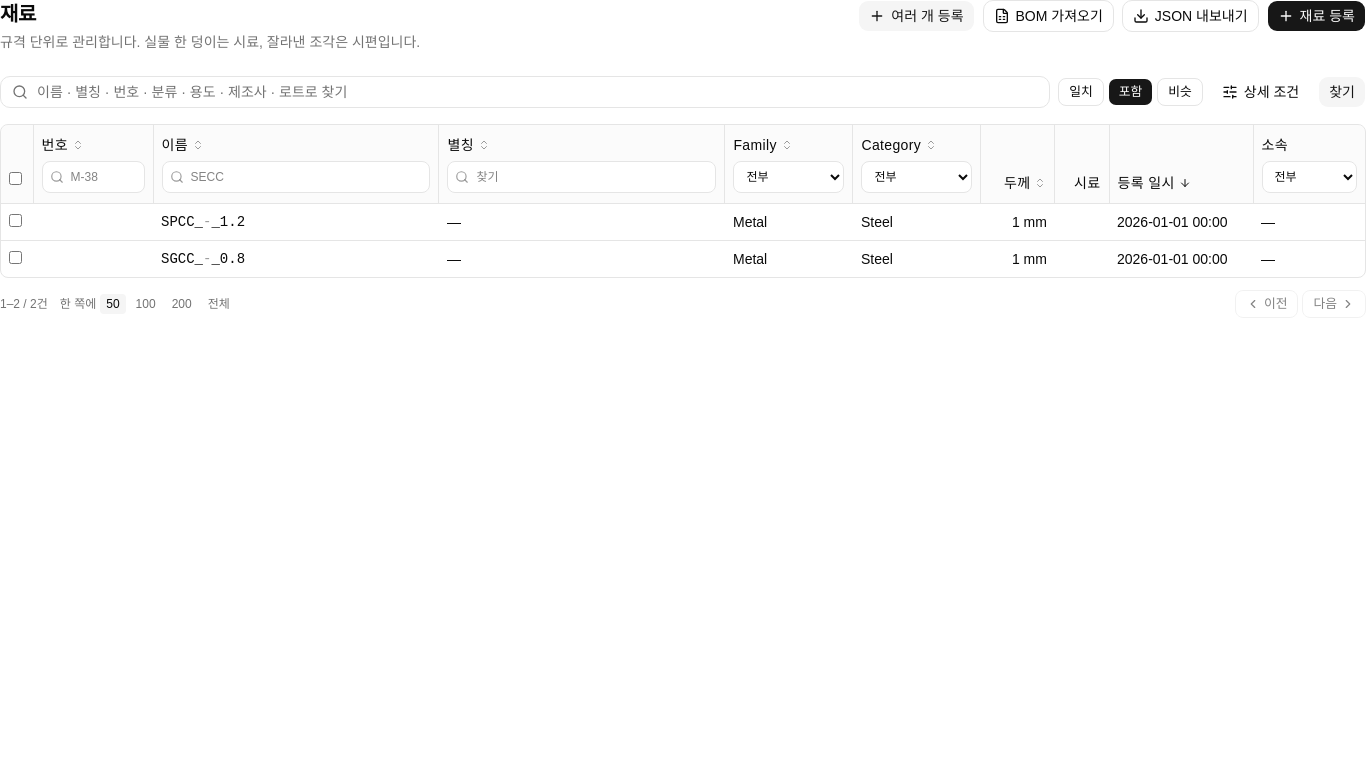
Test case: 일괄 삭제 › 딸려 간 것을 지운 뒤에 말한다
Expected: the link "SPCC_-_1.2" is shown, [161,214,245,230]
Click the checkbox named "전부 선택" at (16, 178), box [9,172,22,185]
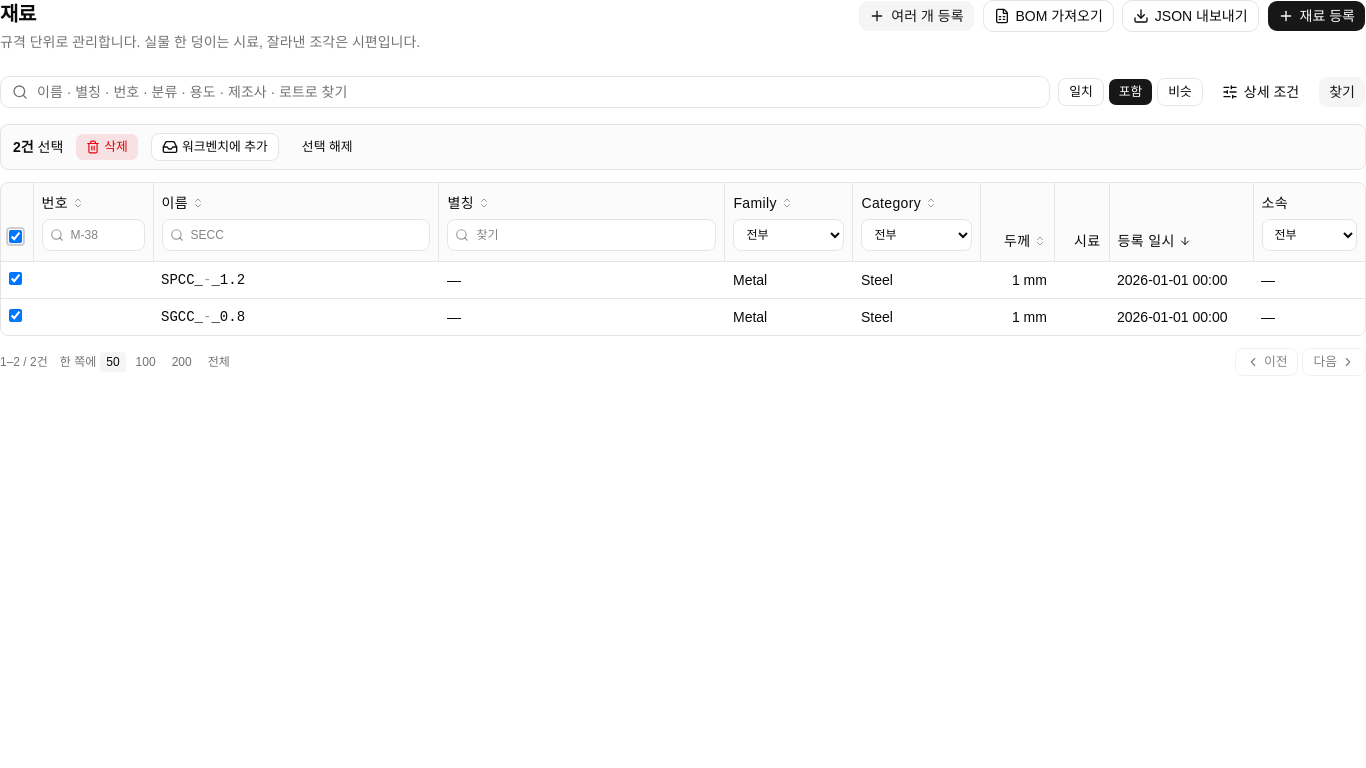
Click the button "삭제" at (107, 147), box [75,133,139,161]
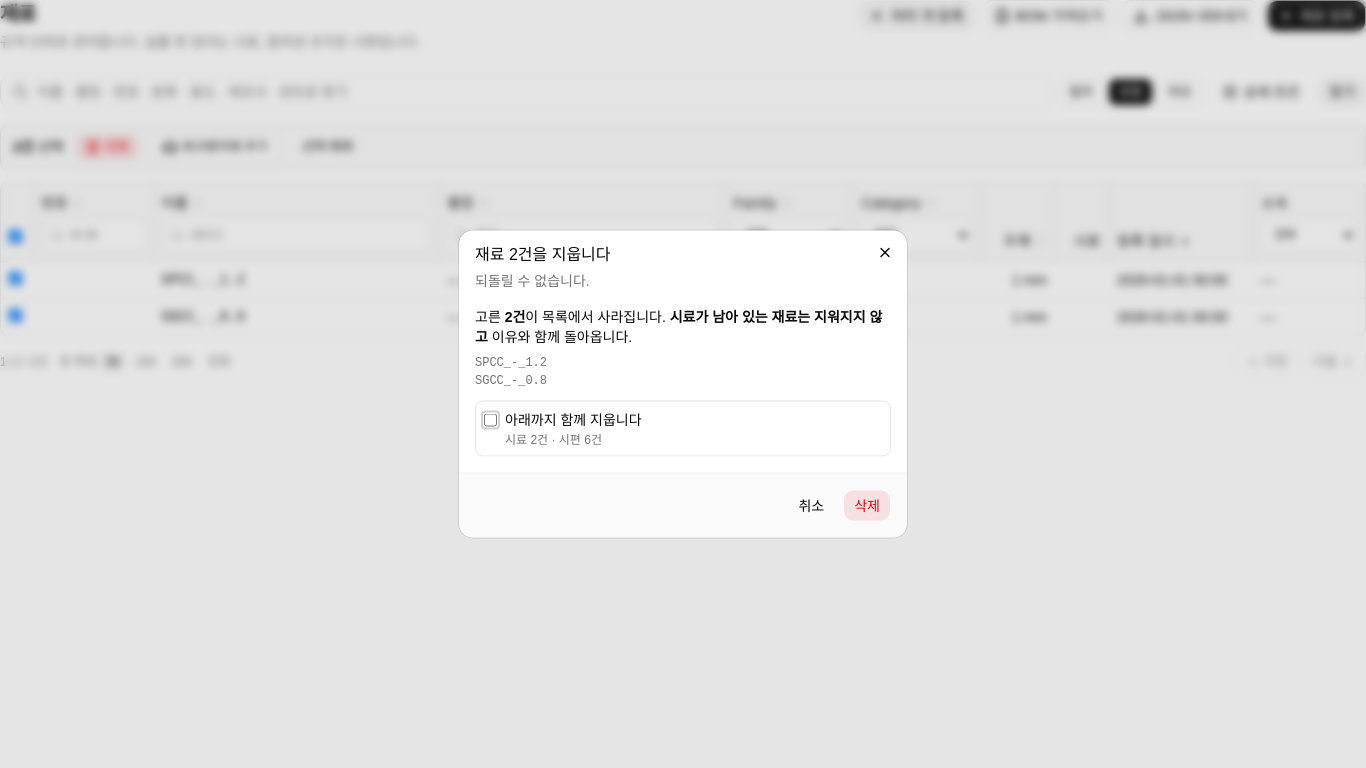
Expected: the text "시료 2건 · 시편 6건" is shown, [505,432,602,446]
Click the checkbox labelled "아래까지 함께 지웁니다 시료 2건 · 시편 6건" at (490, 420), box [484,414,497,426]
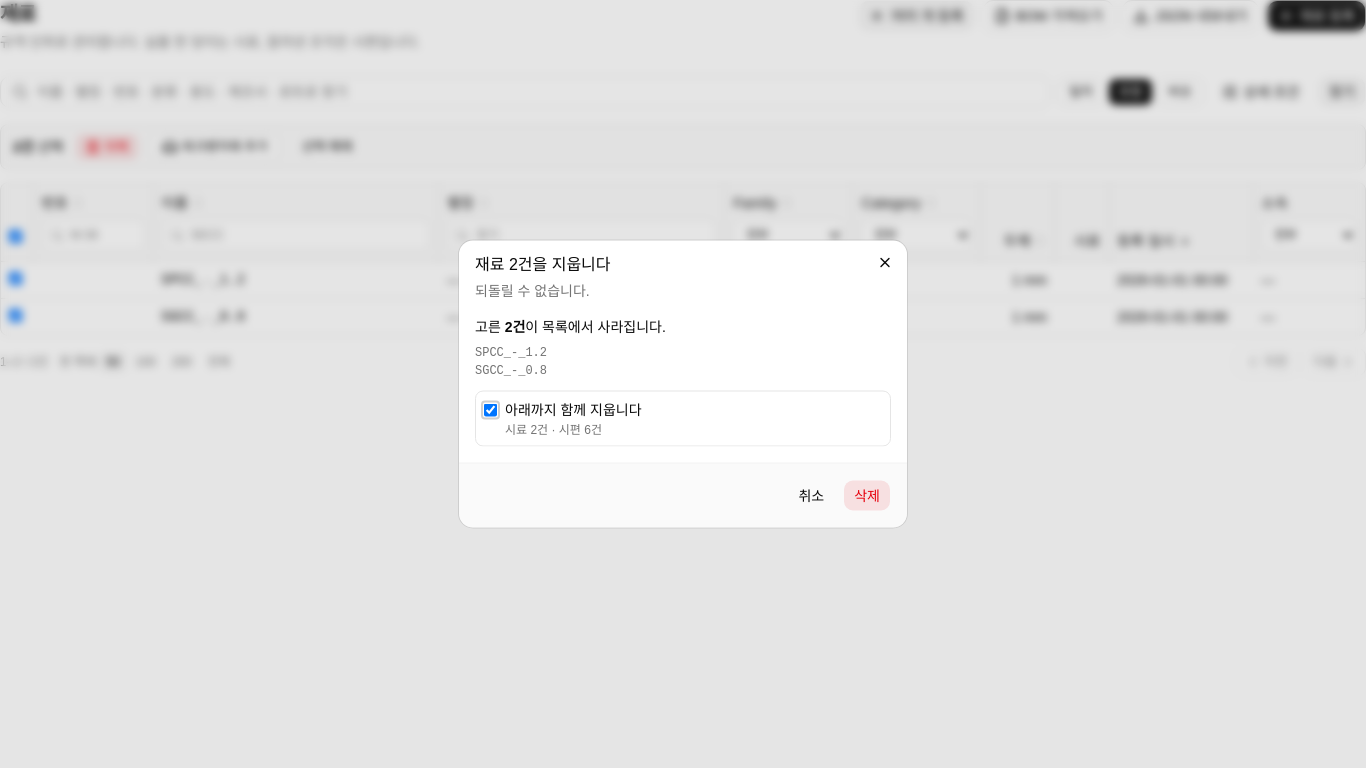
Click the button "삭제" at (867, 496), box [843,480,891,512]
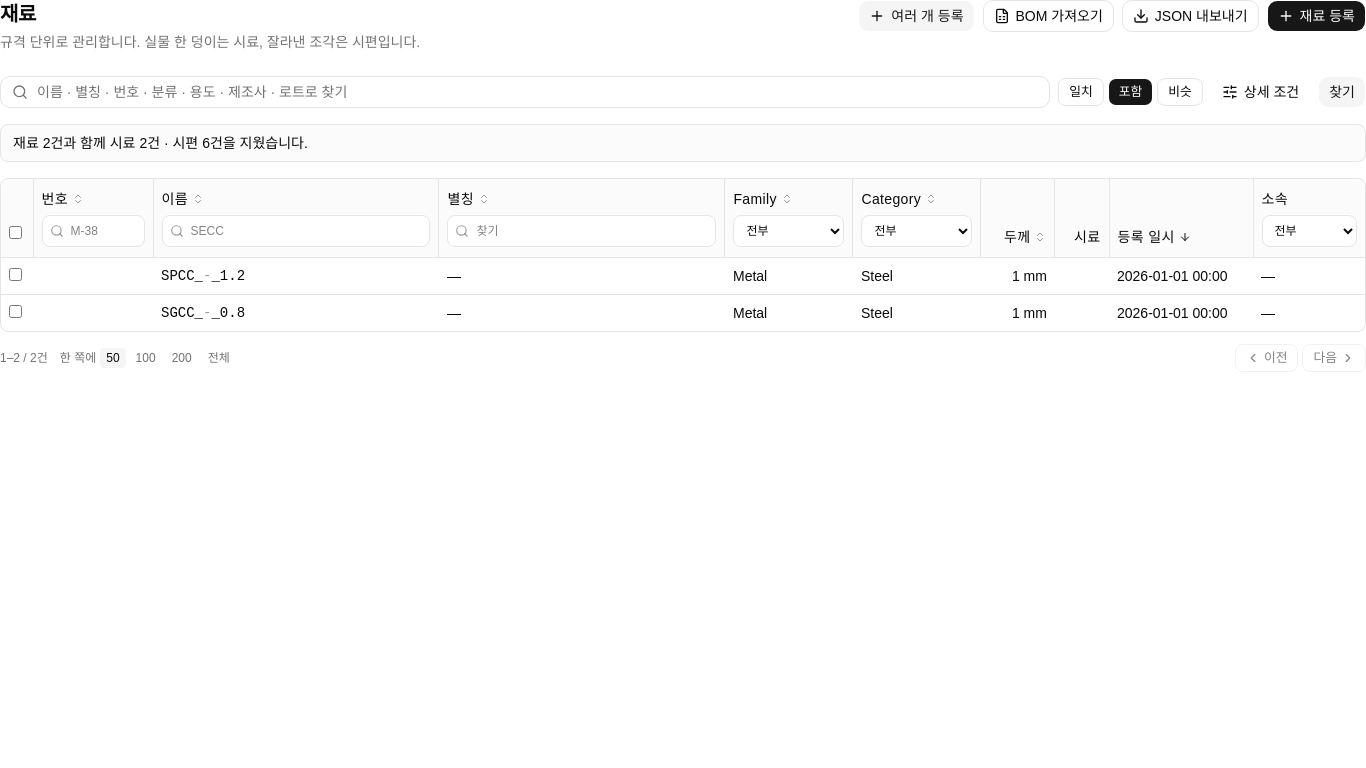
Expected: the text "재료 2건과 함께 시료 2건 · 시편 6건을 지웠습니다." is shown, [0,124,1365,162]
